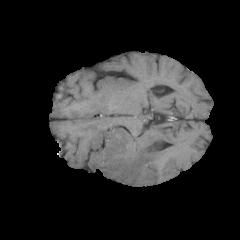glioma: (88, 121, 190, 179)
